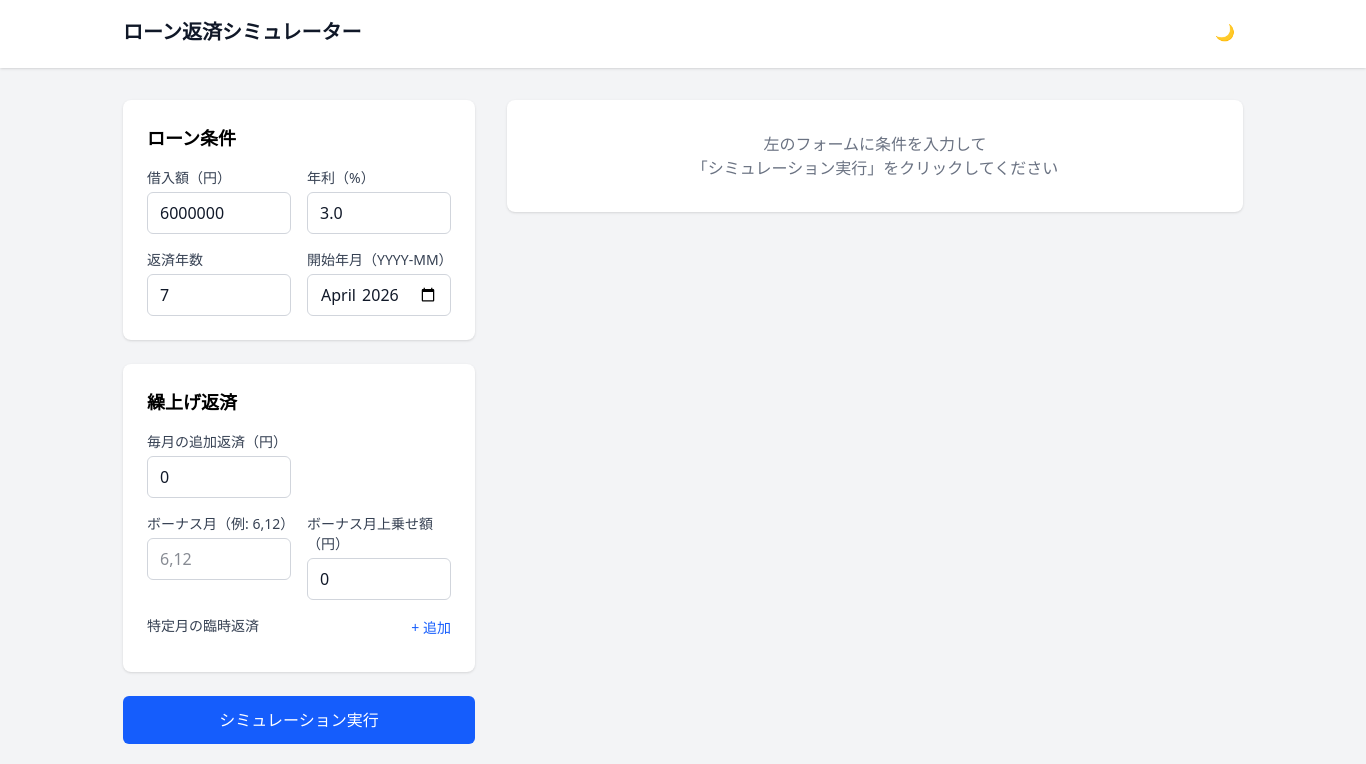
App 統合テスト › シミュレーション実行 › ScheduleTable に返済スケジュールが表示される
This screenshot has width=1366, height=764.
Click the button "シミュレーション実行" at (299, 720), box x1=123 y1=696 x2=475 y2=744
(page scrolled)
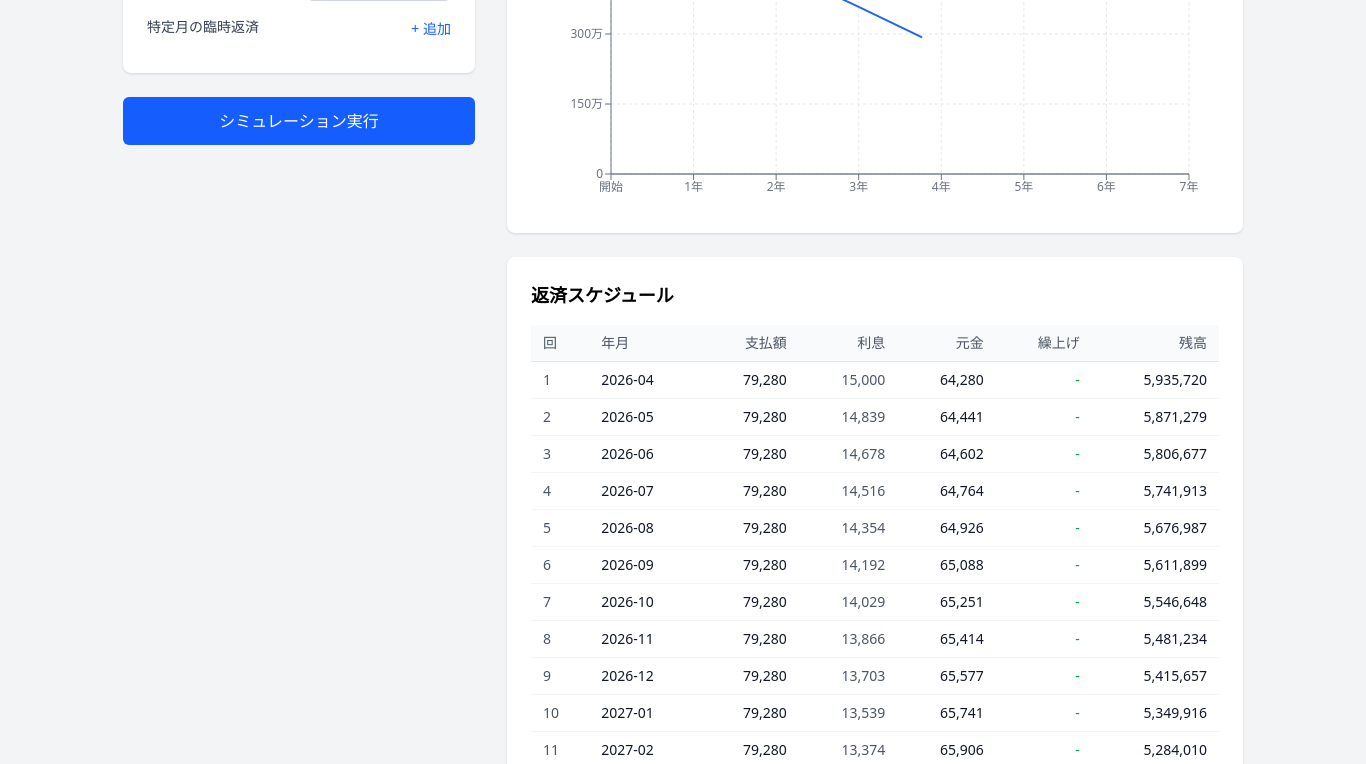
Expected: the column heading "回" is shown, x1=531 y1=325 x2=589 y2=362
Expected: the column heading "年月" is shown, x1=589 y1=325 x2=700 y2=362
Expected: the column heading "支払額" is shown, x1=700 y1=325 x2=799 y2=362
